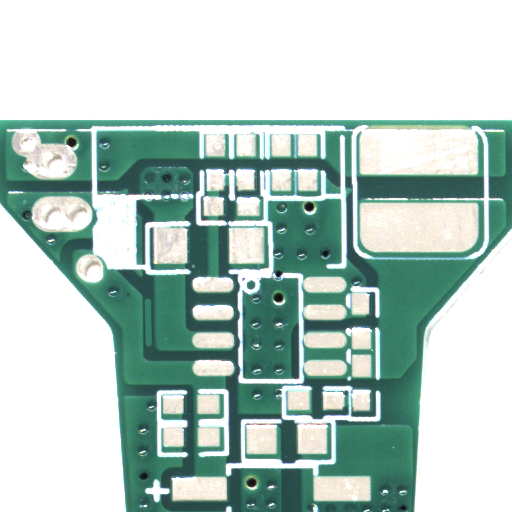Spurious_copper: (147, 322, 158, 375)
